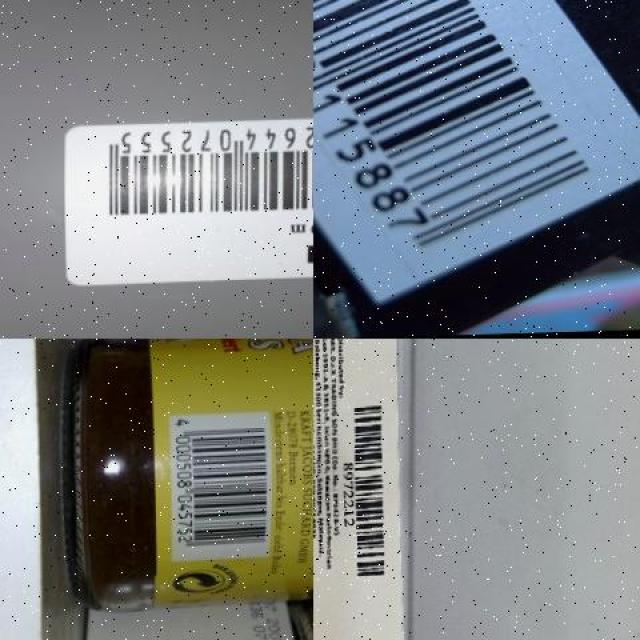Barcode: (313, 0, 640, 311), (65, 113, 314, 284), (171, 414, 272, 563), (342, 393, 393, 588)
